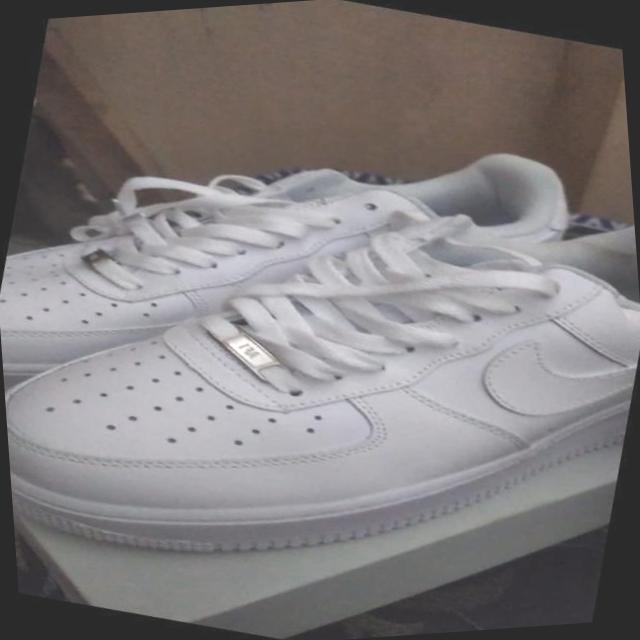nike_original_airforce: (0, 63, 640, 640), (0, 28, 605, 528)
